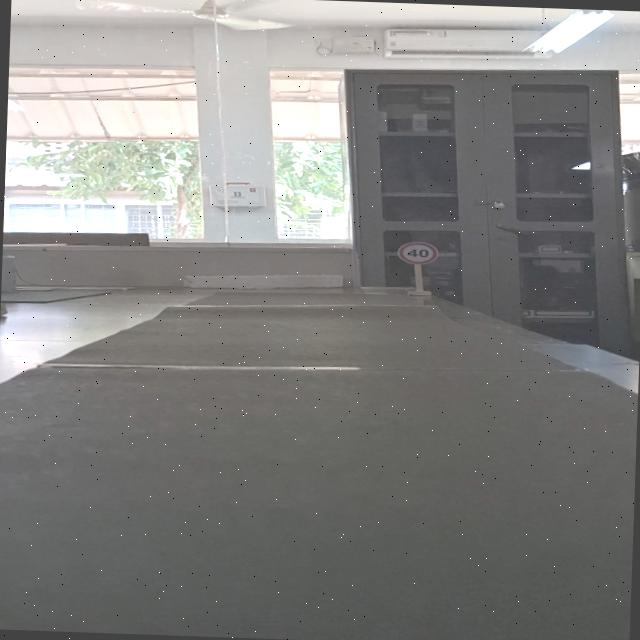Speed40: (396, 240, 441, 266)
